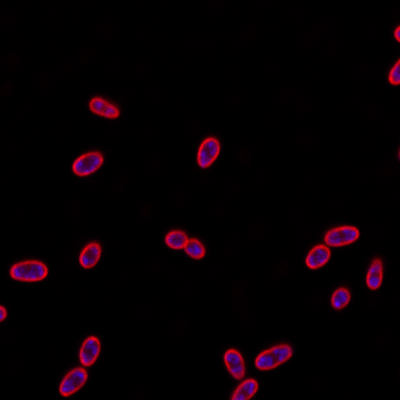MP265: (165, 228, 206, 261), (254, 343, 293, 371), (56, 365, 88, 399), (7, 258, 48, 283), (70, 150, 104, 177), (323, 224, 361, 248), (196, 135, 221, 168), (223, 348, 247, 382), (78, 334, 102, 367), (305, 242, 332, 270), (79, 241, 102, 270), (329, 286, 352, 312)
Oblique: (366, 256, 385, 290)
